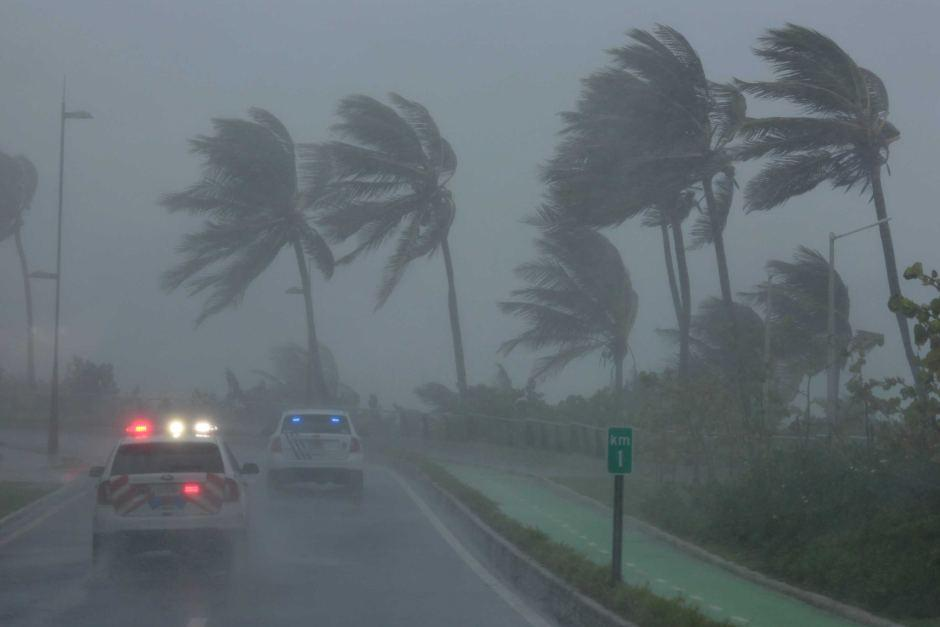car: (85, 414, 261, 579), (261, 407, 366, 500)
